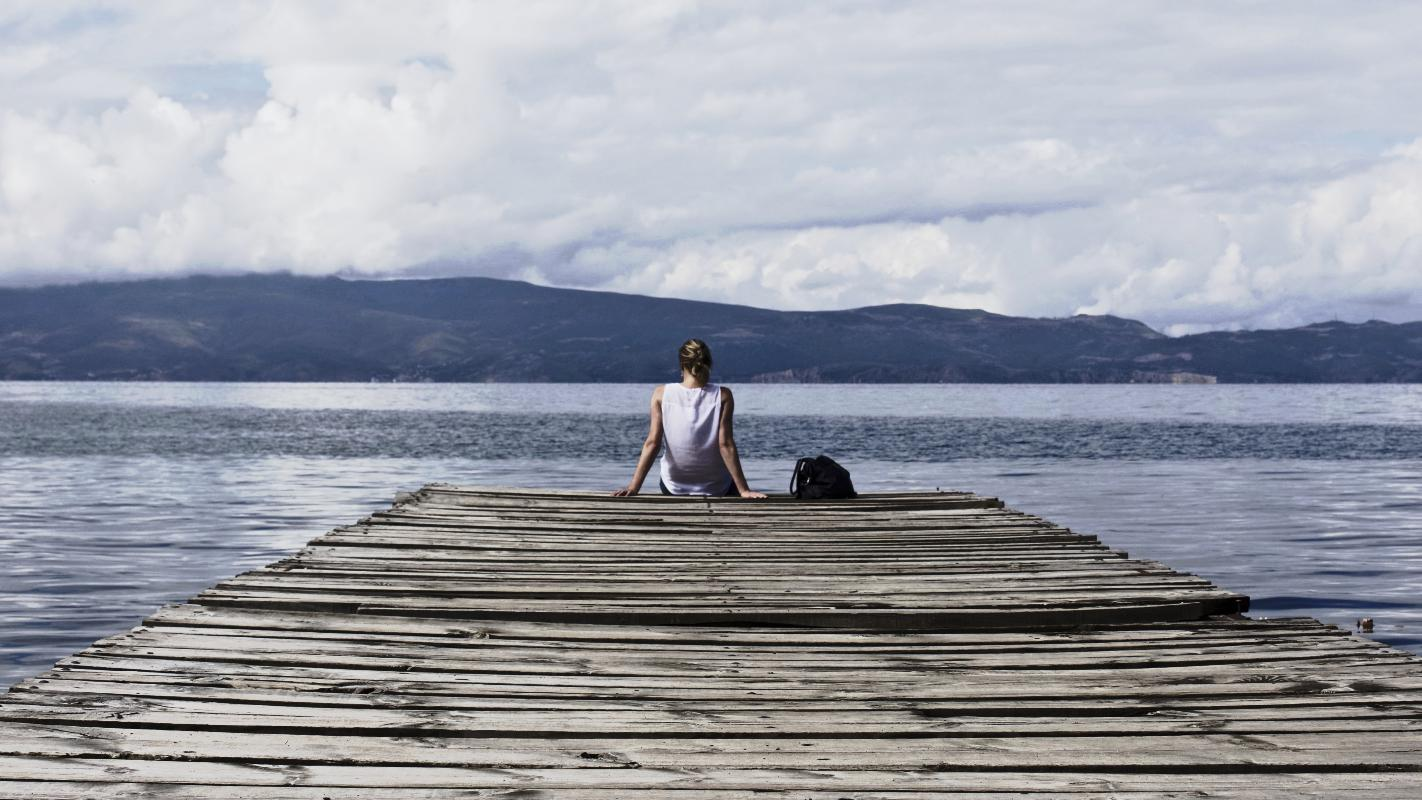Person: (612, 341, 773, 510)
